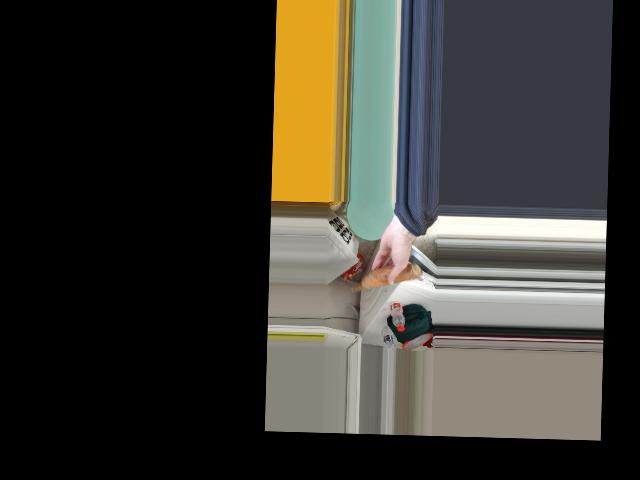sweet_potato: (353, 259, 418, 296)
